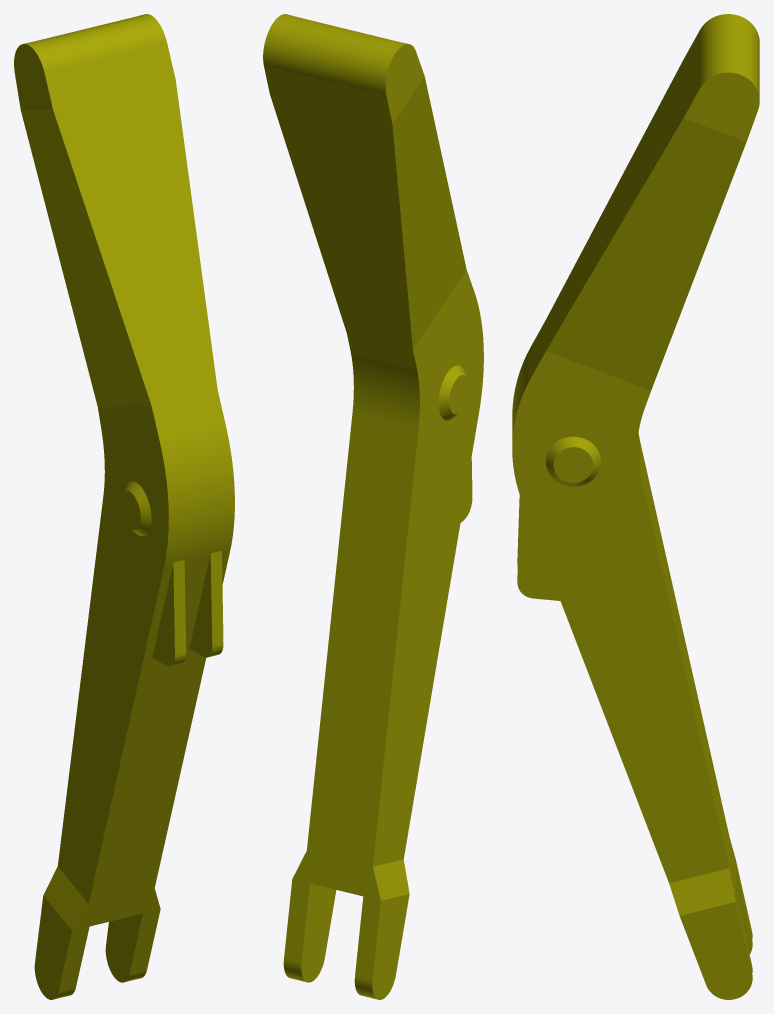
Rendered from boom.obj.
3 views of the same model, side by side, from view 1: azimuth 30°, elevation 25°; view 2: azimuth 150°, elevation 25°; view 3: azimuth 270°, elevation 25° (orthographic). The views are drawn at different scales.
Visible parts, largest first — view 1: mesh_1_boom; view 2: mesh_1_boom; view 3: mesh_1_boom.
Boxes of the visible parts, bbox=[...] form: mesh_1_boom: bbox=[14, 14, 234, 999]; mesh_1_boom: bbox=[263, 14, 483, 999]; mesh_1_boom: bbox=[512, 14, 759, 999].
Size of the model in its own units: 0.872 by 6.5 by 1.56.
